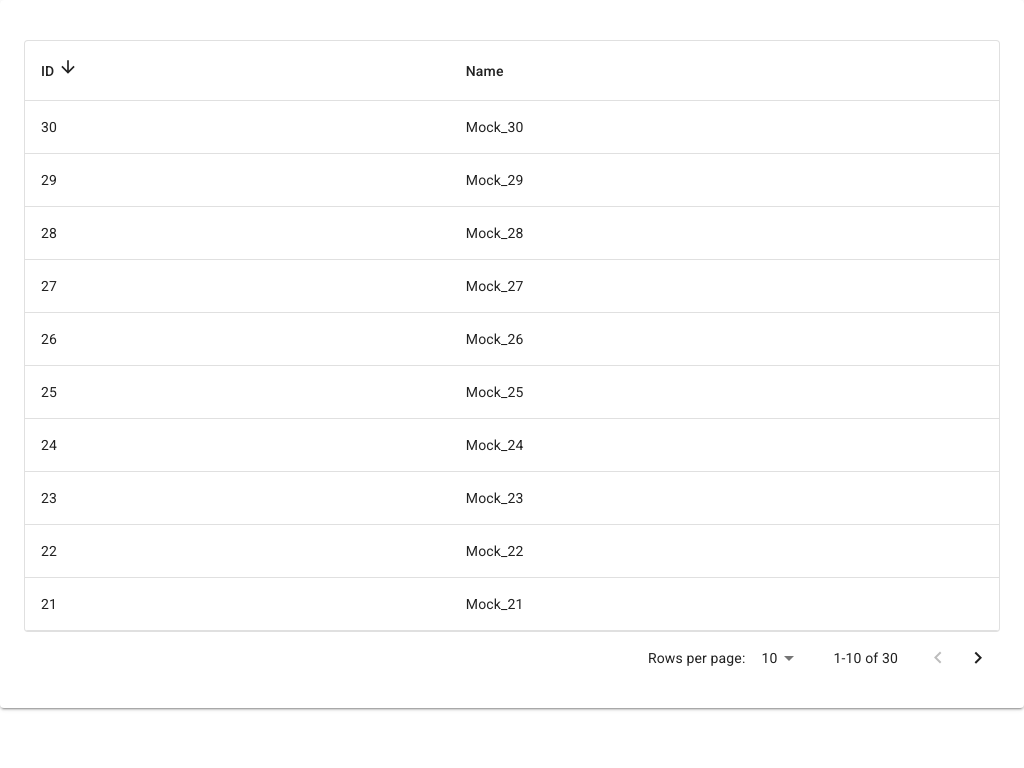
Test: DataTable › Pagination › changes page number correctly
What coordinates should you click on to do the following:
click the button named "Go to next page"
I would click on:
 (978, 658)
Its box is [958, 638, 998, 678].
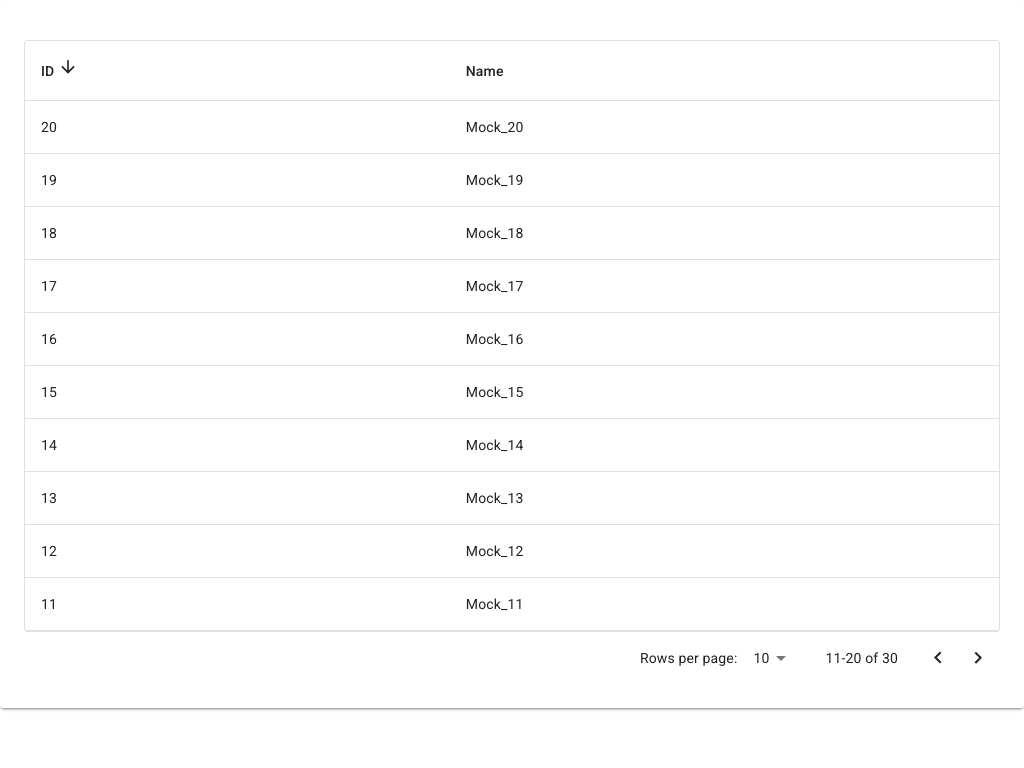
Result: the text "Mock_18" is shown at [450, 206, 999, 260]
